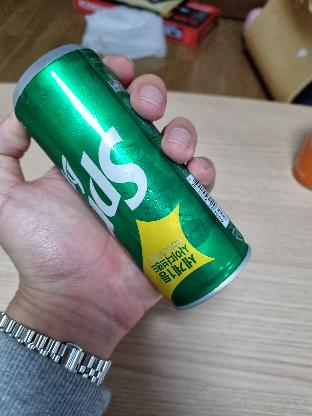Can: (20, 38, 242, 294)
